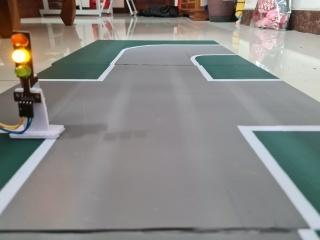yellow: (0, 23, 45, 91)
